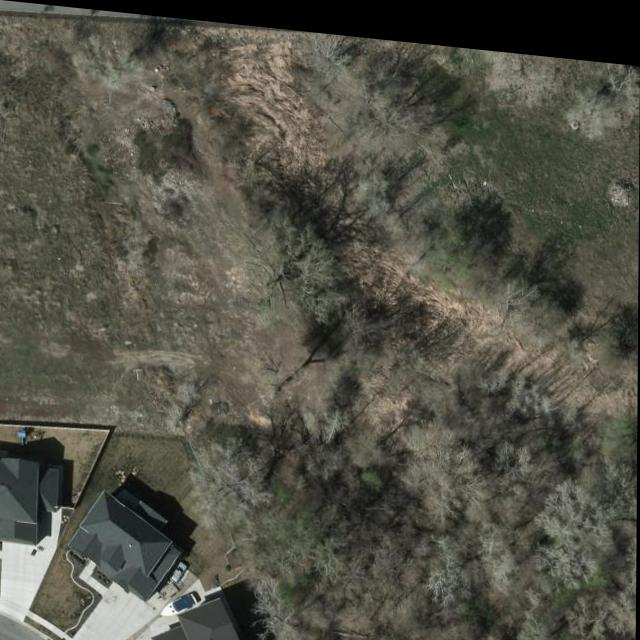vehicle: (169, 557, 190, 582)
